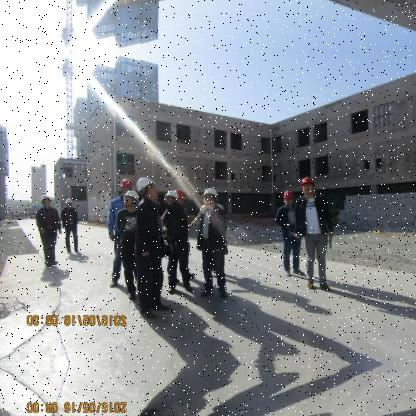helmet: (137, 173, 161, 199), (202, 184, 222, 207), (300, 175, 318, 196), (282, 186, 297, 207), (124, 188, 141, 206), (119, 175, 134, 193), (165, 189, 181, 204), (39, 192, 53, 207), (65, 195, 76, 208)
